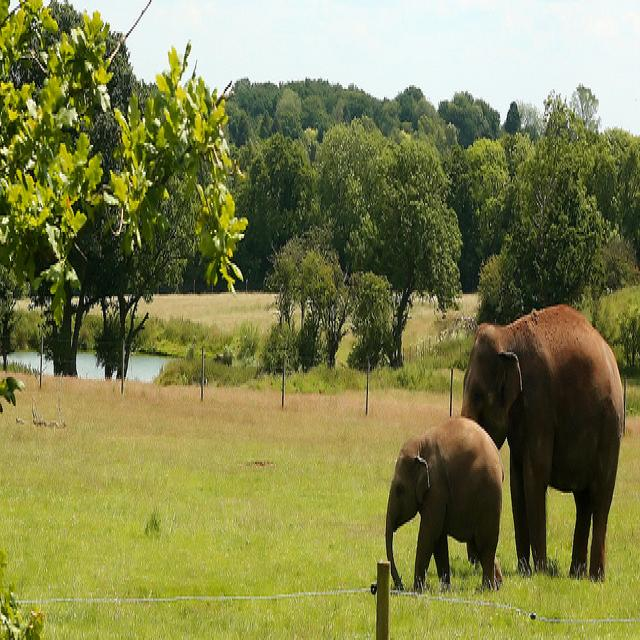elephant: (462, 299, 623, 585), (385, 414, 503, 597)
